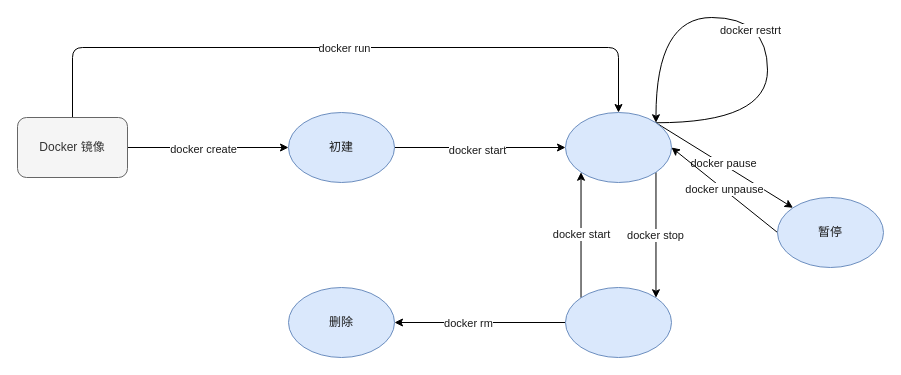
This 901x375 diagram has some shape labels left out. Here are the shapes that lost their labels. From the top down, the centre of each, then its label:
At pixel 618 147: "运行".
At pixel 618 322: "停止".
